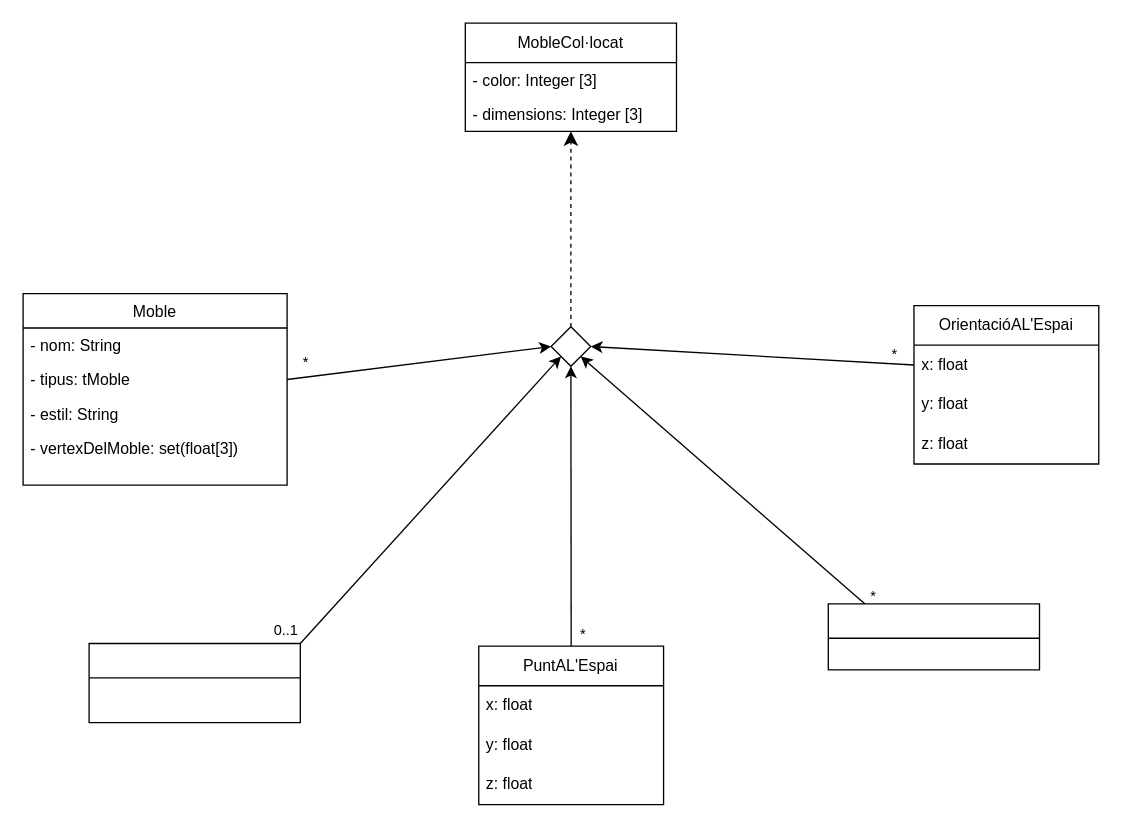
This 1122x828 diagram has some shape labels left out. The shapes that lost their labels are listed below. From the top down, each one's centre as x and y in pixels, then its label:
the point at 933,636: Visita
the point at 194,682: Habitacio
